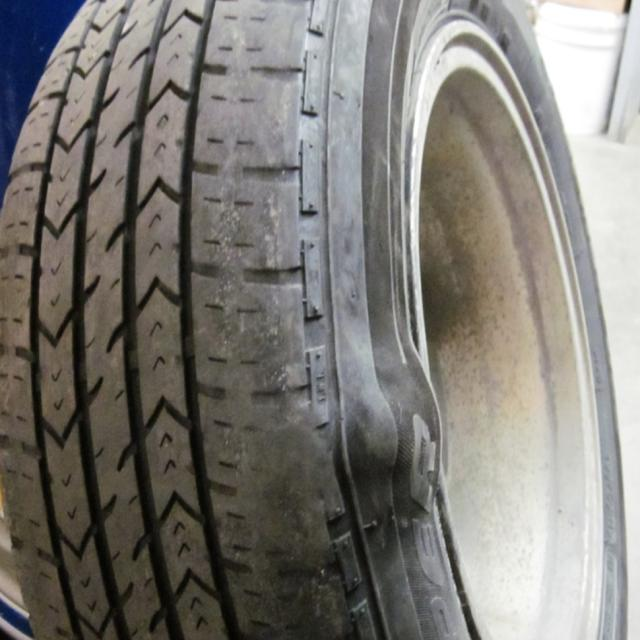Bulge: (318, 331, 451, 556)
